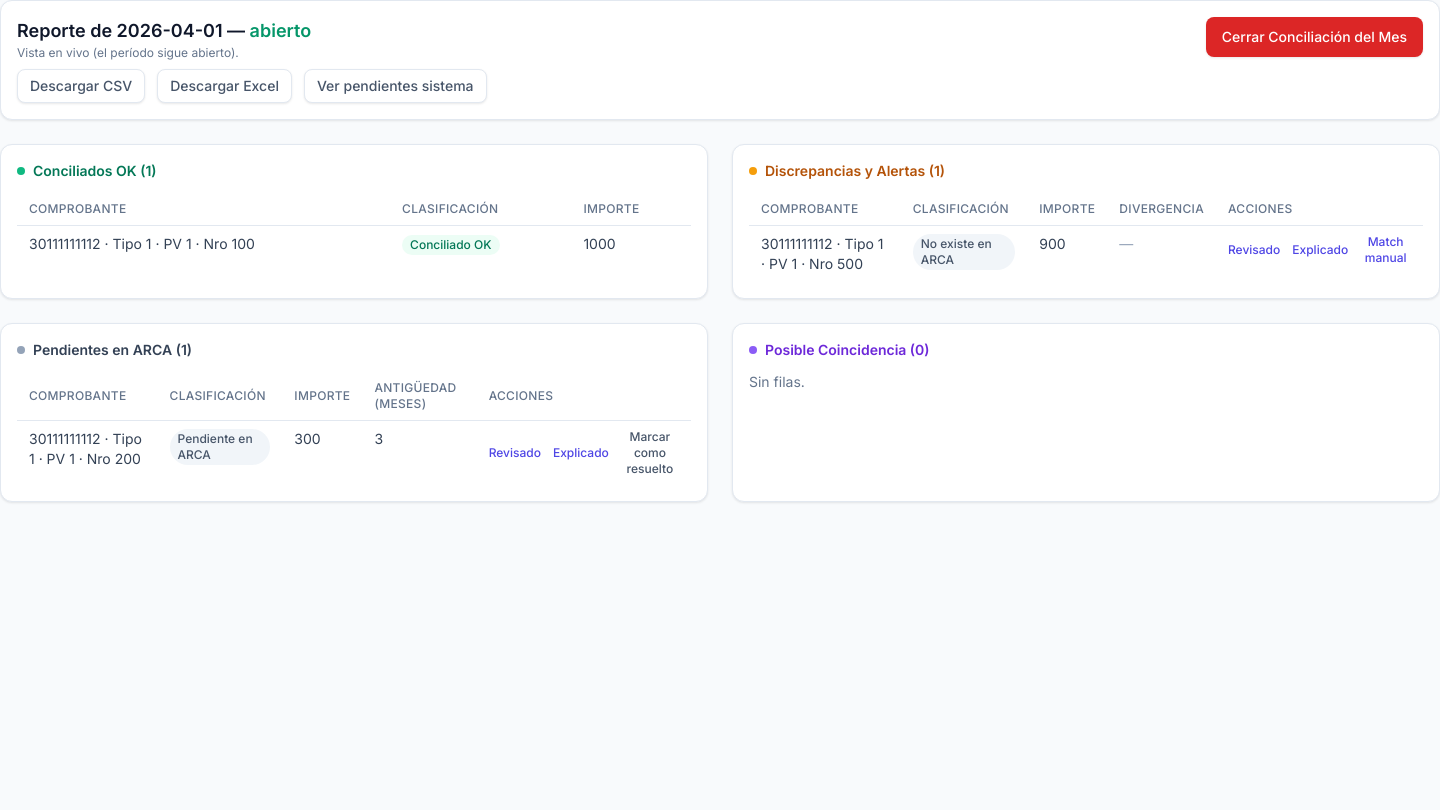
Test: T31: PeriodoReportViewer › 2026-10-12 ("Match manual" para no_existe_en_arca) › closing the modal does not reload the report, but a successful match does
This screenshot has width=1440, height=810.
Click the button "Match manual".
click(1386, 250)  # box [1360, 234, 1411, 266]
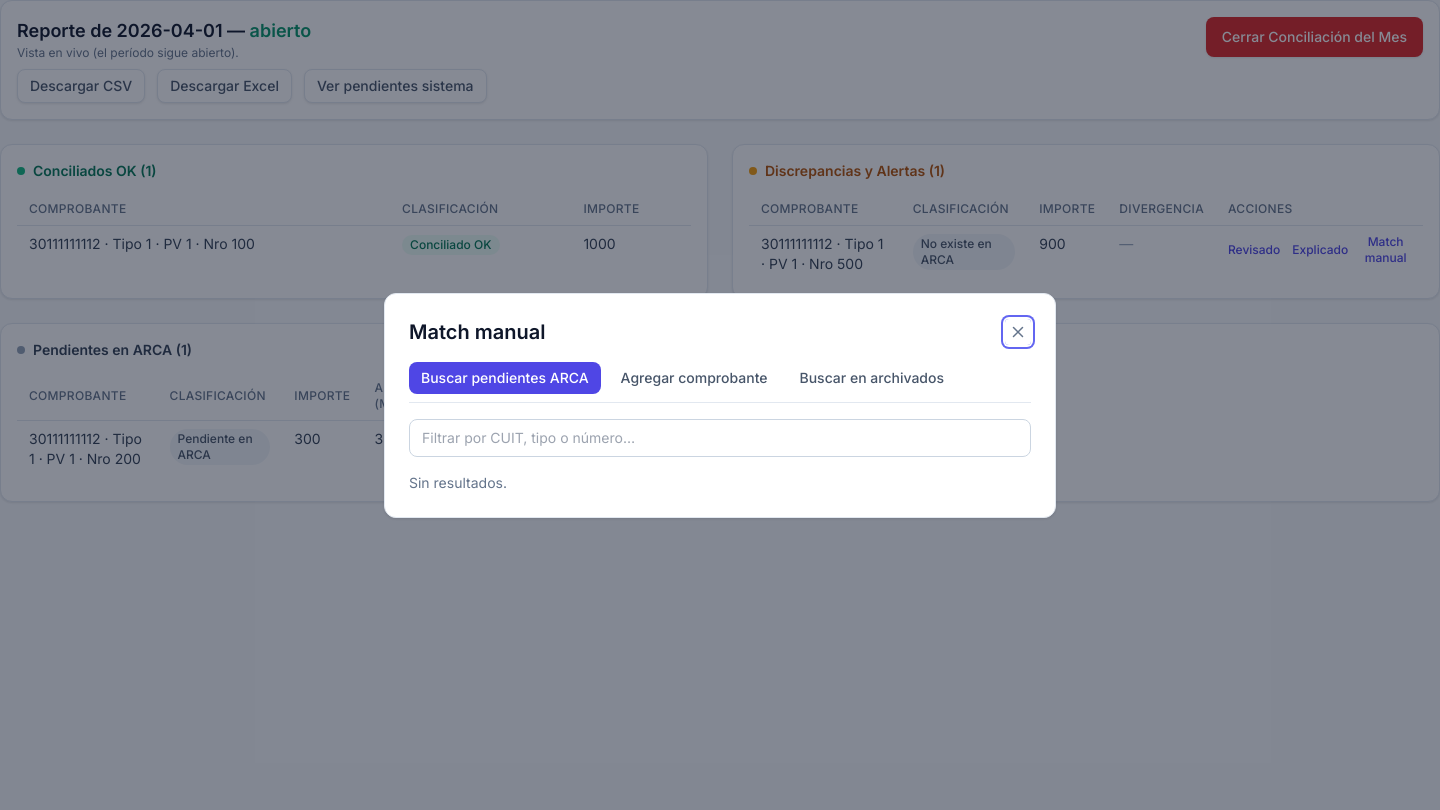
Click the button named "cerrar".
click(1018, 332)  # box [1005, 318, 1031, 344]
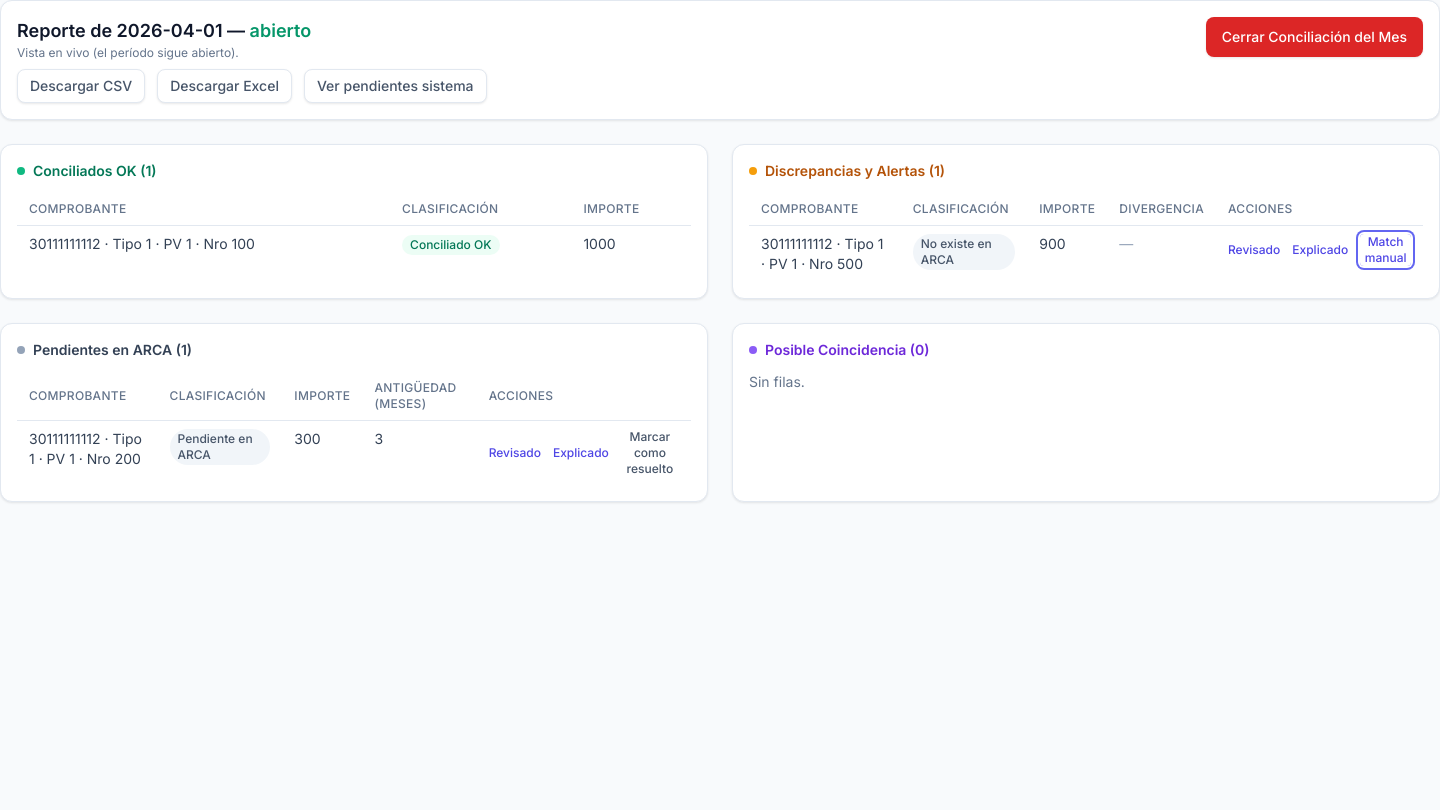
Result: the dialog is gone
